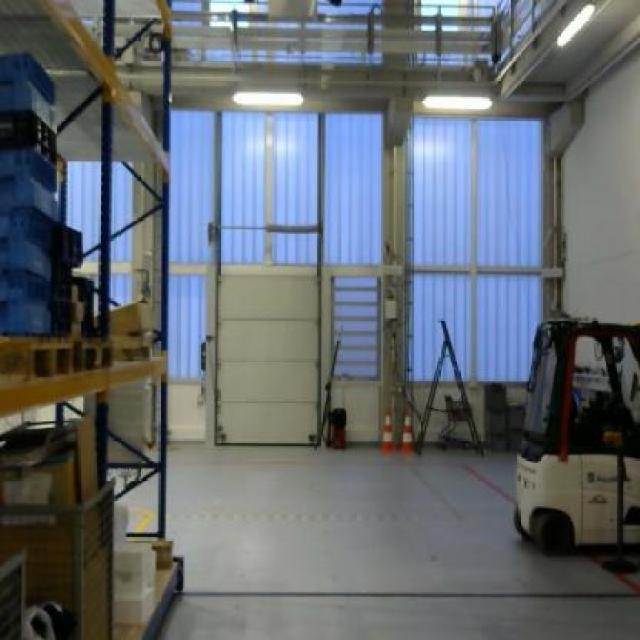box: (110, 298, 152, 334)
